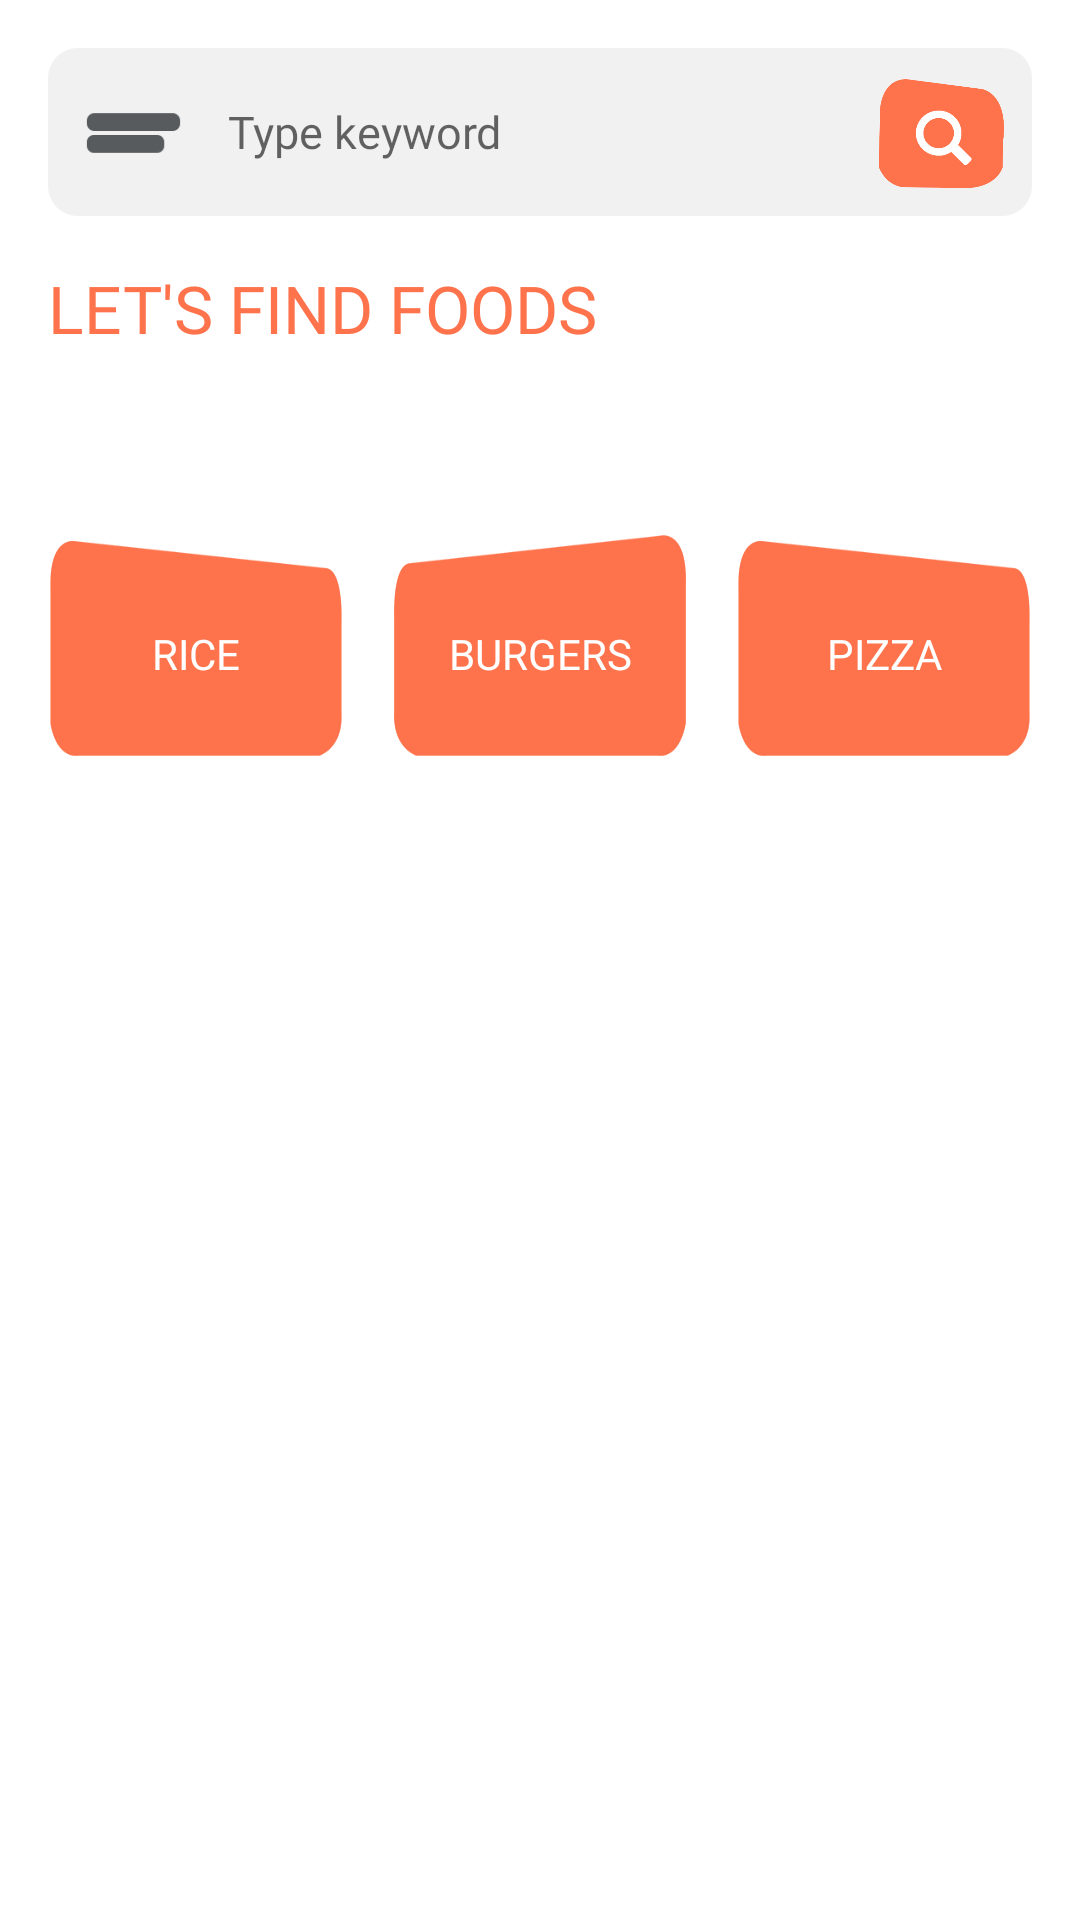

Icons on this 1080 x 1920 Android screen, each with the point to tap as [x,y]:
search: [941,133]
